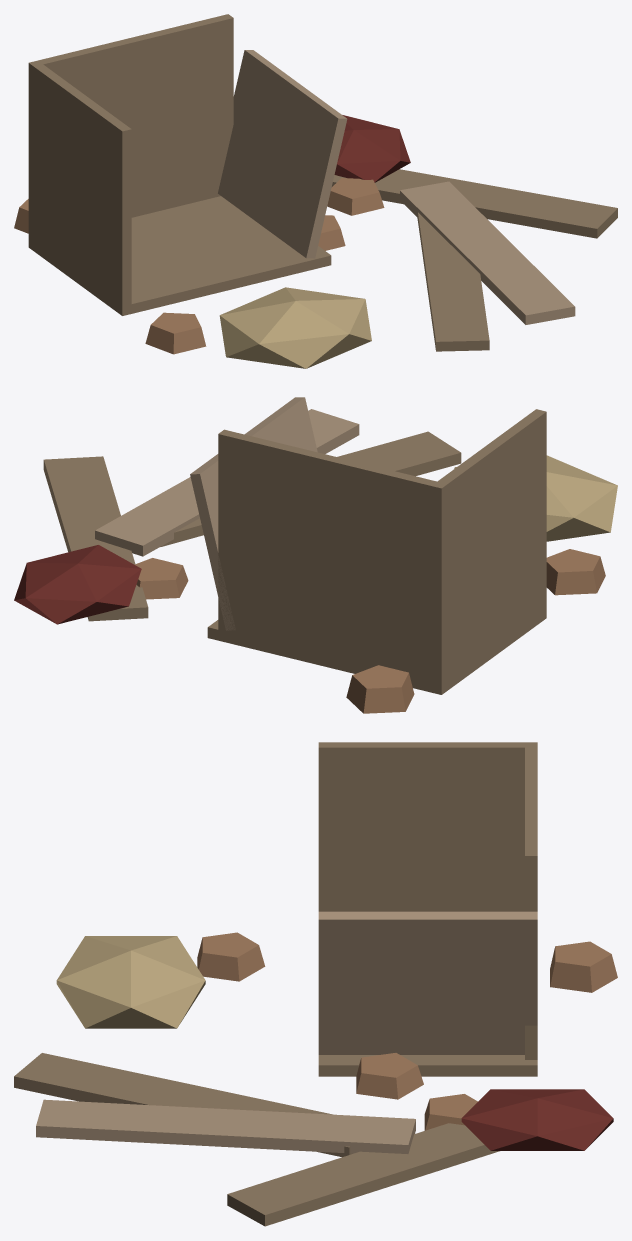
File: trash.glb
3 renders of one model, top to bottom at view 1: azimuth 30°, elevation 25°; view 2: azimuth 150°, elevation 25°; view 3: azimuth 270°, elevation 25°, orthographic. The views are drawn at different scales.
Visible parts, largest first — view 1: Trash; view 2: Trash; view 3: Trash.
Part boxes in pixels (box(x1,y1,x2,y2)): Trash: box(14, 14, 617, 368); Trash: box(14, 397, 617, 713); Trash: box(14, 742, 617, 1226).
Size of the model in its own units: 1.04 by 0.386 by 0.966.
